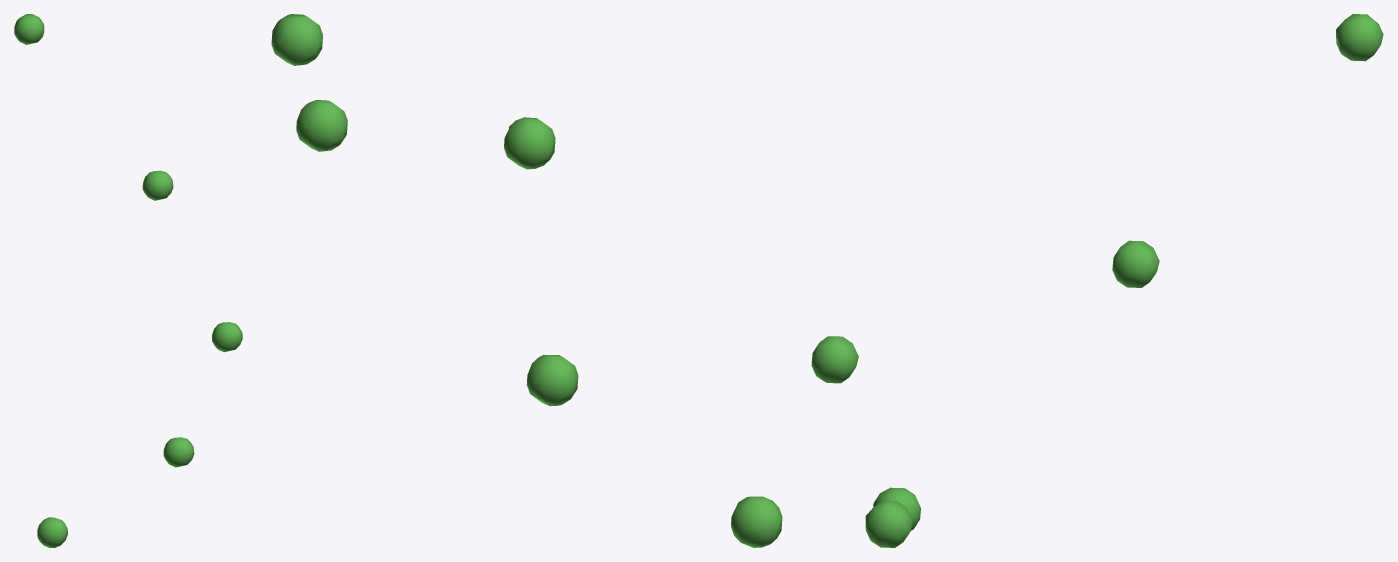
File: linfatico-right-gastric-nodes.glb
The picture shows the model from 3 angles, left to right: view 1: azimuth 30°, elevation 25°; view 2: azimuth 150°, elevation 25°; view 3: azimuth 270°, elevation 25°; orthographic projection. The views are drawn at different scales.
Parts seen in each view (by area): view 1: Right gastric nodes; view 2: Right gastric nodes; view 3: Right gastric nodes.
Part boxes in pixels (left/top/right/bottom): Right gastric nodes: left=14, top=14, right=242, bottom=547; Right gastric nodes: left=271, top=14, right=782, bottom=547; Right gastric nodes: left=811, top=14, right=1383, bottom=547.
Size of the model in its own units: 0.0199 by 0.0356 by 0.0302.
